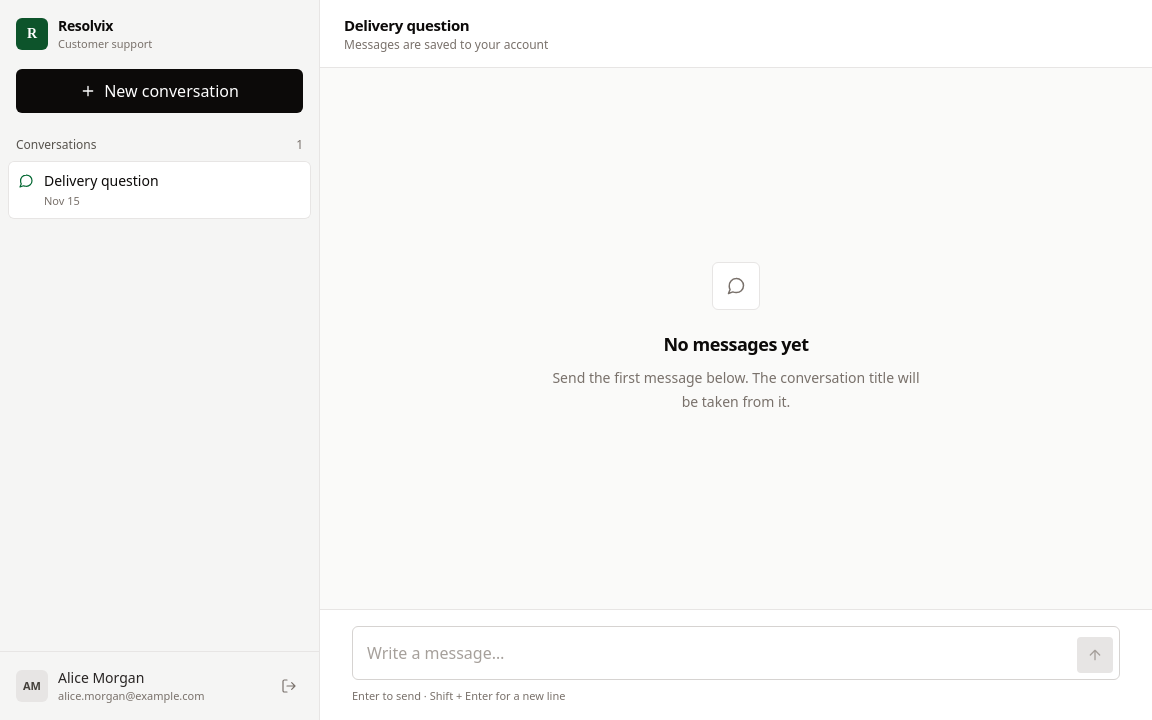
Test: Chat › prevents duplicate submissions while a message is being sent
Later steps or results of the test are not shown.
Type "  Where is my order?  " into the text box labelled "message".
click(714, 652); type("  Where is my order?  ")  # box [359, 632, 1069, 672]
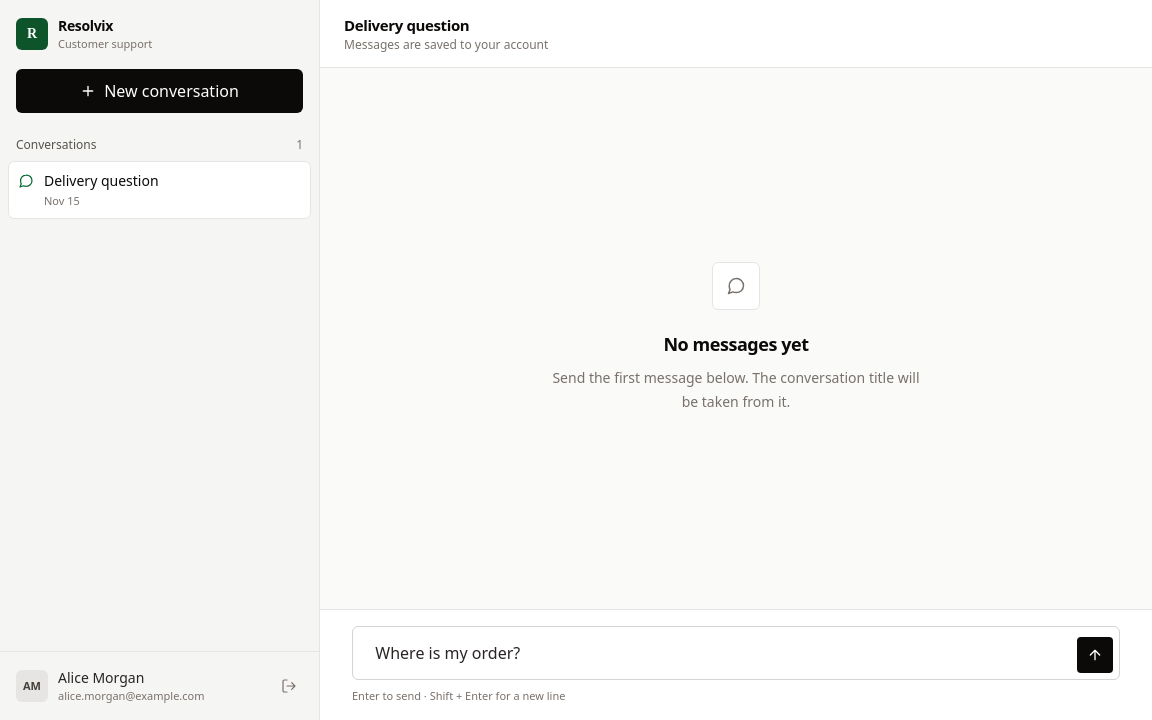
Click the button named "Send message".
click(1095, 654)  # box [1077, 636, 1113, 672]
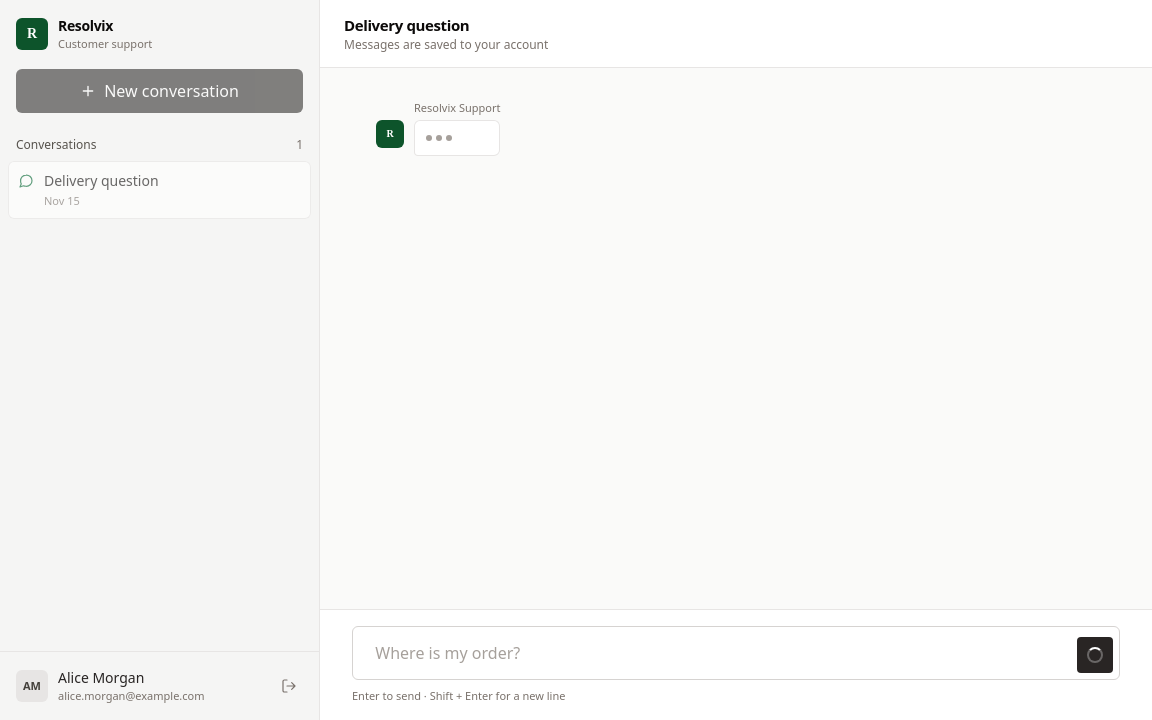
Click the button named "Send message".
click(1095, 654)  # box [1077, 636, 1113, 672]
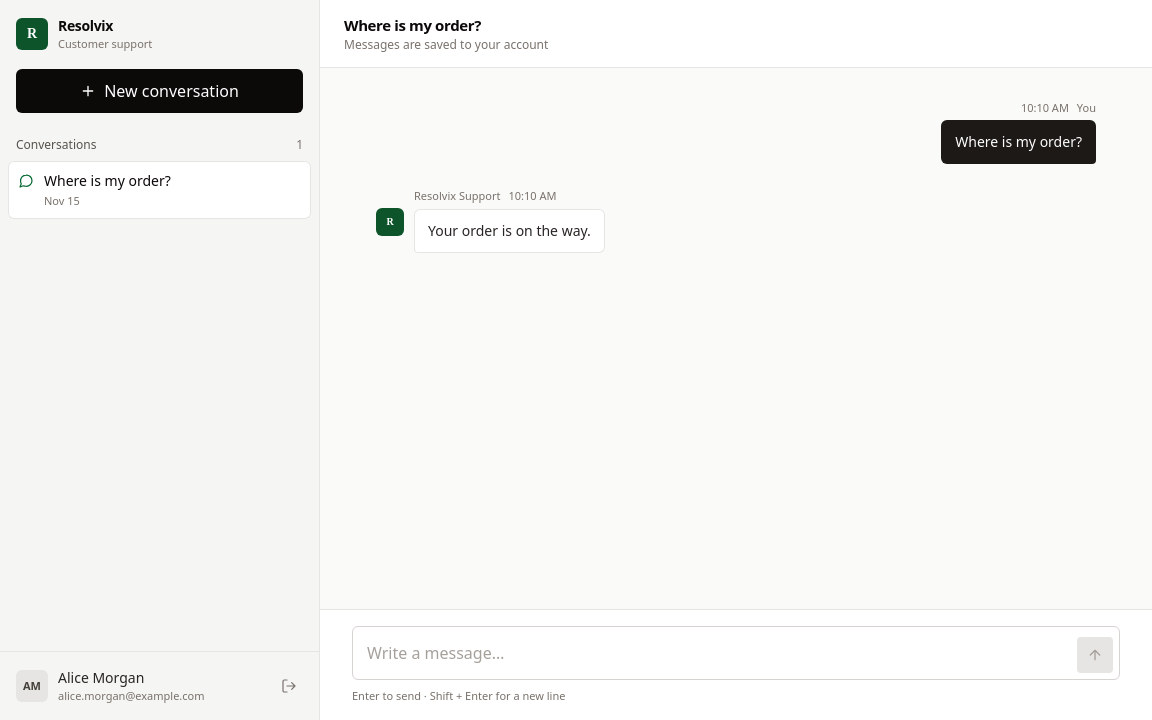
Expected: the button named "Sending message" is disabled, [1077, 636, 1113, 672]
Expected: the 1st text "Where is my order?" is shown, [941, 120, 1096, 164]
Expected: the text "Your order is on the way." is shown, [414, 208, 605, 252]
